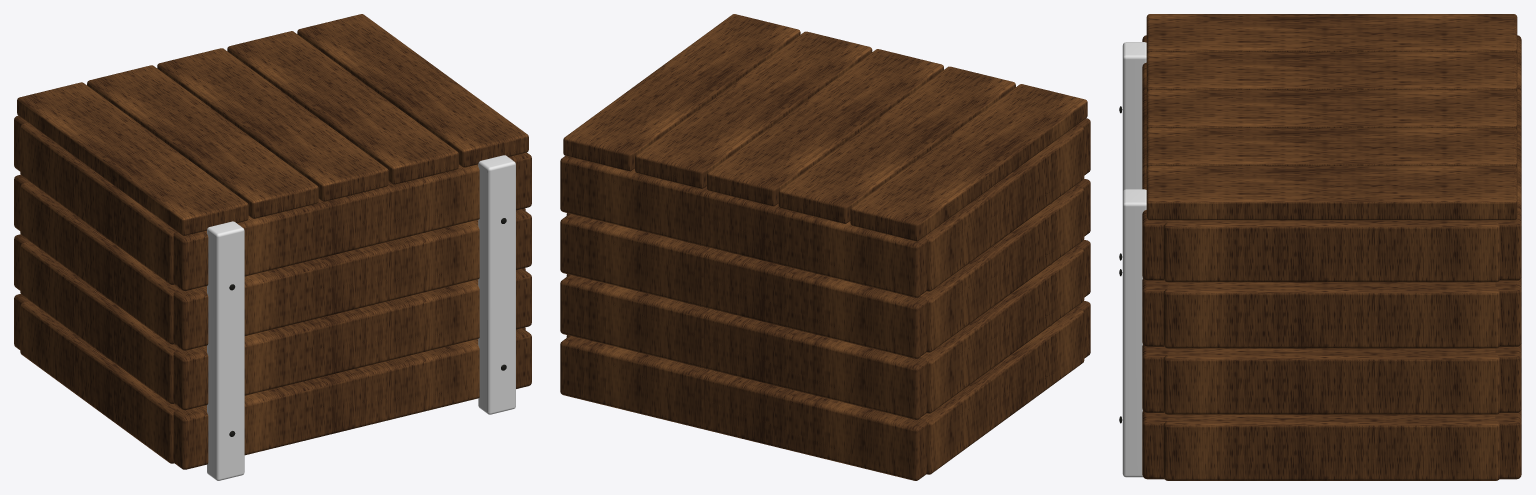
Rendered from WoodCrate.fbx.
3 renders of one model, left to right at view 1: azimuth 30°, elevation 25°; view 2: azimuth 150°, elevation 25°; view 3: azimuth 270°, elevation 25°, orthographic. The views are drawn at different scales.
Parts seen in each view (by area): view 1: WoodCrate_SmokedOak, WoodCrate_Walnut; view 2: WoodCrate_SmokedOak; view 3: WoodCrate_SmokedOak, WoodCrate_Walnut.
Boxes of the visible parts, bbox=[...] form: WoodCrate_SmokedOak: bbox=[14, 14, 531, 469]; WoodCrate_Walnut: bbox=[207, 155, 515, 480]; WoodCrate_SmokedOak: bbox=[560, 14, 1090, 480]; WoodCrate_SmokedOak: bbox=[1142, 14, 1521, 480]; WoodCrate_Walnut: bbox=[1122, 42, 1146, 477].
Size of the model in its own units: 81.5 by 57 by 71.6.
